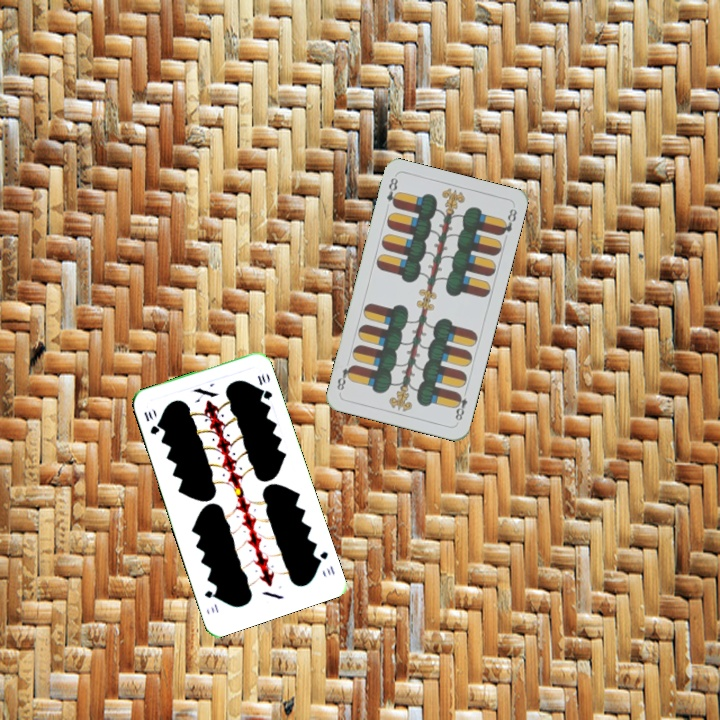E8: (450, 385, 470, 423), (382, 173, 401, 210)
G10: (312, 547, 337, 578), (140, 408, 162, 437)
